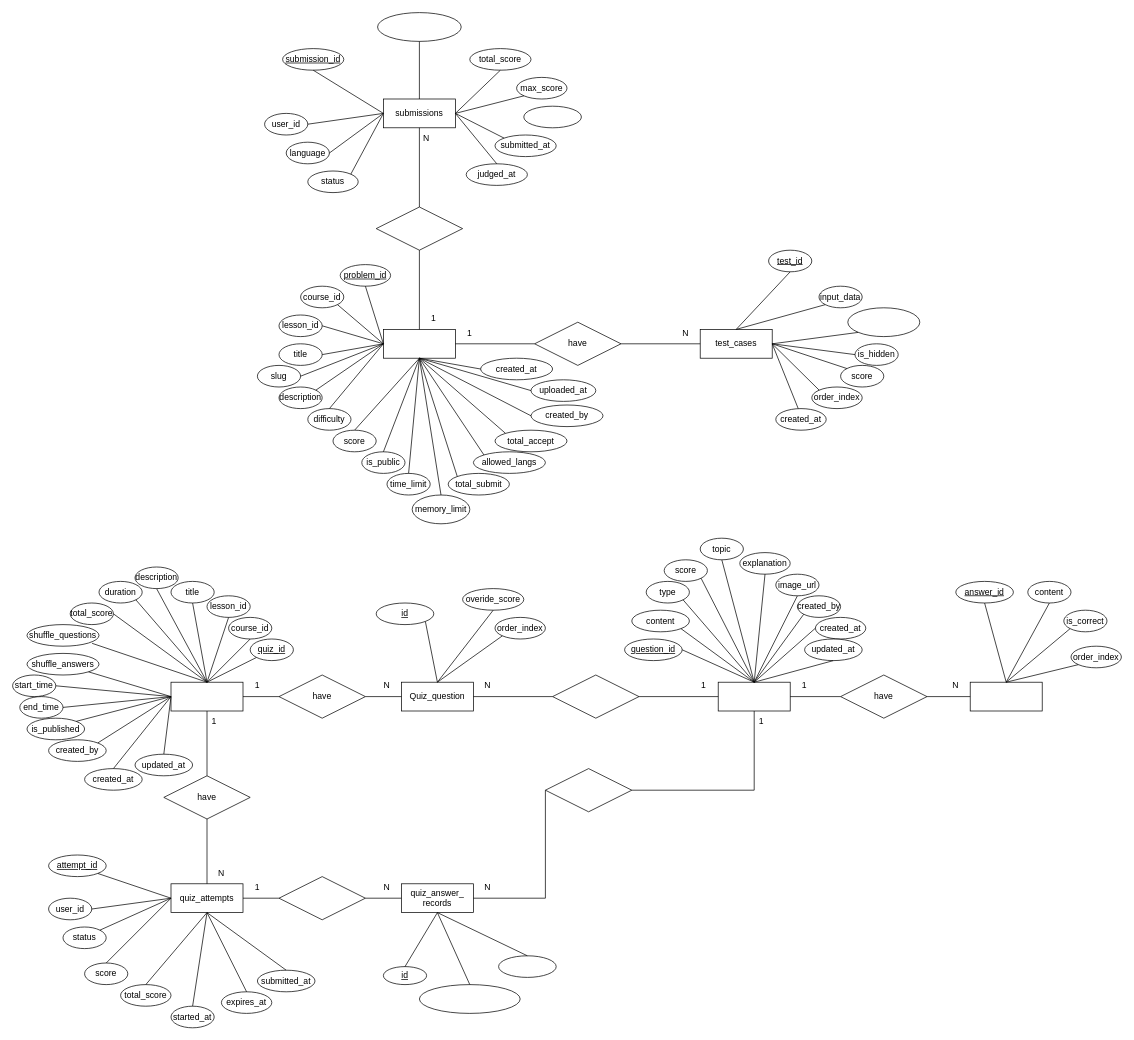
This 1134x1040 diagram has some shape labels left out. Here are the shapes that lost their labels. From the top down, the centre of each, then its label:
At point 419,26: "mongo_structure_id".
At point 552,116: "excution_time".
At point 419,228: "submit".
At point 883,322: "expected_output".
At point 419,343: "problems".
At point 206,696: "quizzes".
At point 595,696: "belong".
At point 753,696: "questions".
At point 1005,696: "answers".
At point 588,790: "anwser_for".
At point 321,898: "contain".
At point 527,966: "earned_score".
At point 469,998: "selected_answer_ids".
